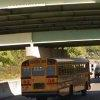buses: (20, 58, 95, 100)
